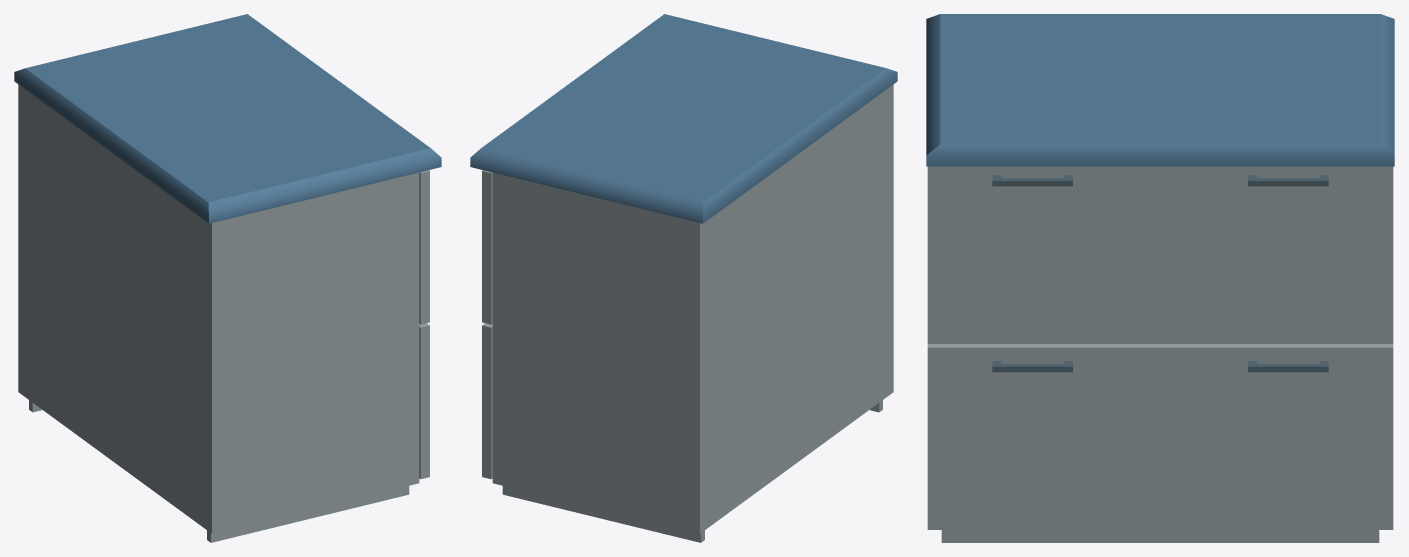
Rendered from table_labs.fbx.
3 views of the same model, side by side, from view 1: azimuth 30°, elevation 25°; view 2: azimuth 150°, elevation 25°; view 3: azimuth 270°, elevation 25° (orthographic). The views are drawn at different scales.
Parts seen in each view (by area): view 1: table_labs.001, table_labs.002, table_labs; view 2: table_labs.001, table_labs.002, table_labs; view 3: table_labs.002, table_labs, table_labs.001.
Part boxes in pixels (bbox=[...]): table_labs.001: bbox=[14, 14, 441, 542]; table_labs.002: bbox=[419, 323, 429, 479]; table_labs: bbox=[419, 170, 429, 324]; table_labs.001: bbox=[470, 14, 897, 542]; table_labs.002: bbox=[482, 323, 492, 479]; table_labs: bbox=[482, 170, 492, 324]; table_labs.002: bbox=[927, 344, 1393, 529]; table_labs: bbox=[927, 166, 1393, 343]; table_labs.001: bbox=[926, 14, 1394, 542].
Bounding box in the file's own units: 34.43 × 48.3 × 49.87.
